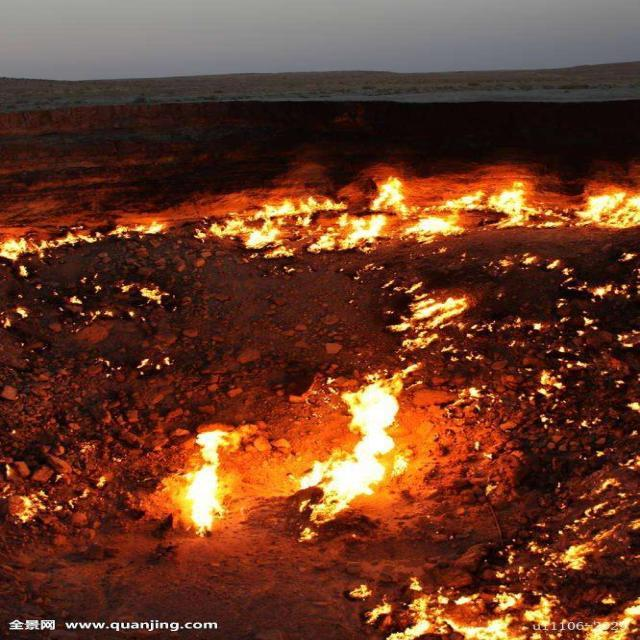Fire: (0, 174, 640, 264), (350, 544, 640, 640), (301, 369, 400, 526), (182, 430, 231, 534)
